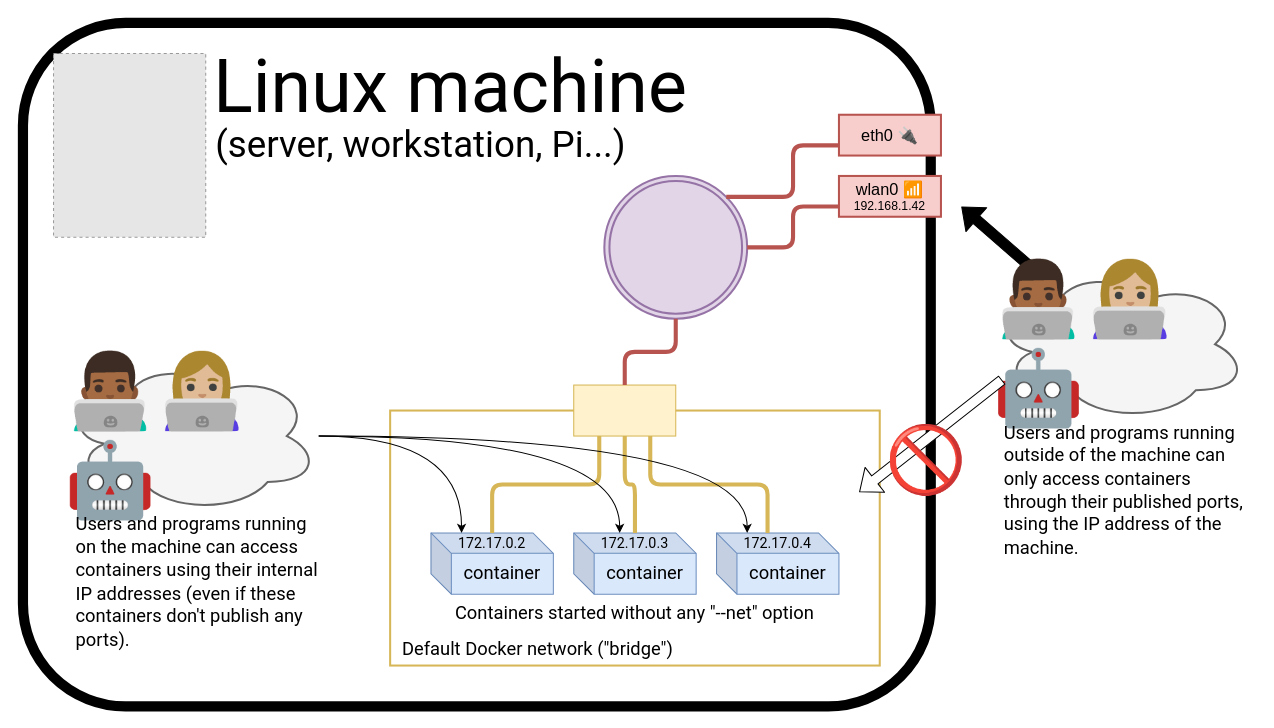
Some shapes in this 1274 by 728 pixel diagram are drawn without their labels. Grey dashed boxes stand in for pictures. The shapes that lost their labels are listed below. From the top down, each one's box as (x1, y1, x2, y2) in pixels, then its label:
(603, 174, 748, 319): Linux Kernel (routing, netfilter, etc.)
(573, 384, 676, 436): docker0 172.17.0.1
